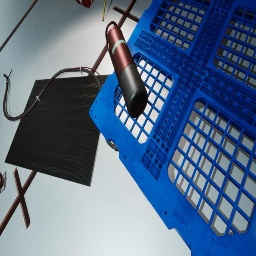FirstAidBox ,: (76, 0, 93, 8)
NitrogenTank ,: (105, 21, 148, 118), (0, 172, 4, 189)
